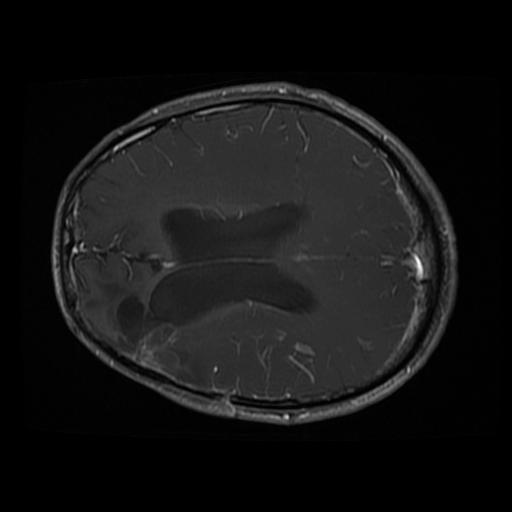glioma: (82, 278, 201, 388)
